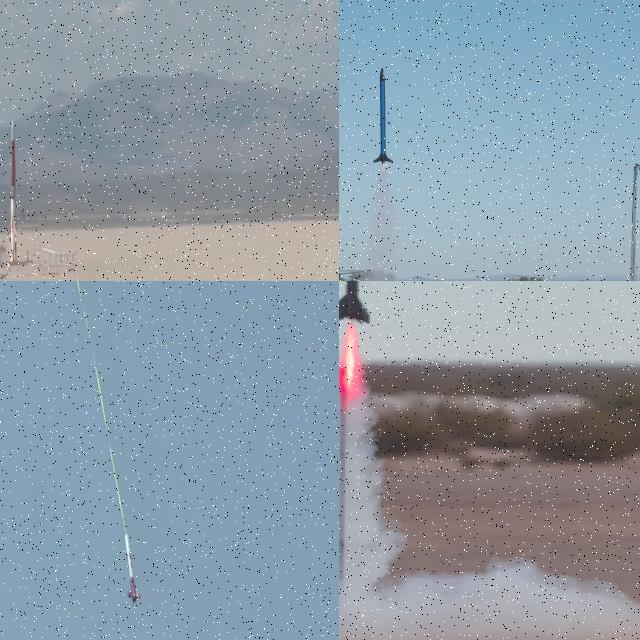Rocket: (374, 67, 394, 164), (7, 118, 18, 252), (124, 533, 142, 607)
